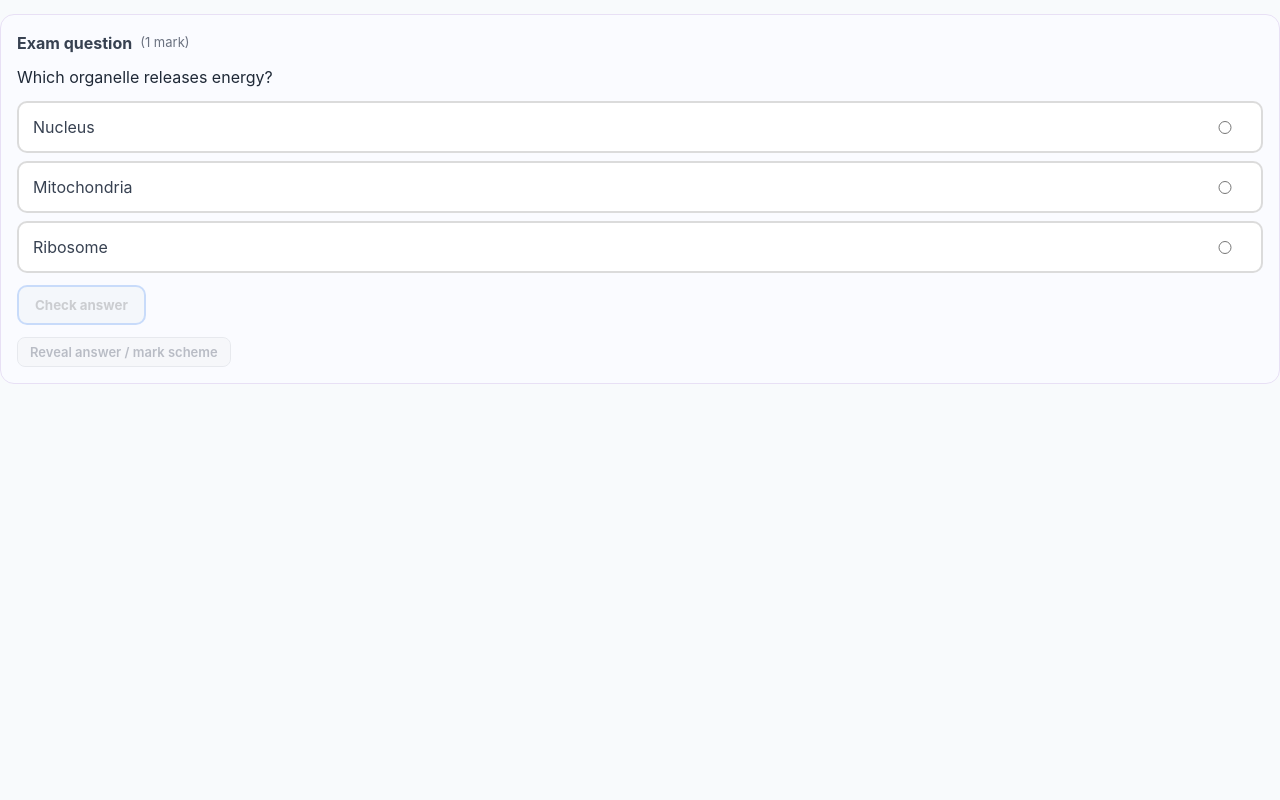
it: ExamQuestionBlock single question marking › student reveal is disabled until single MCQ is checked
Check: the button with test id "exam-question-reveal-btn" is disabled, box [17,337,231,367]
Click the button "Mitochondria".
click(83, 187)  # box [17,161,1263,213]
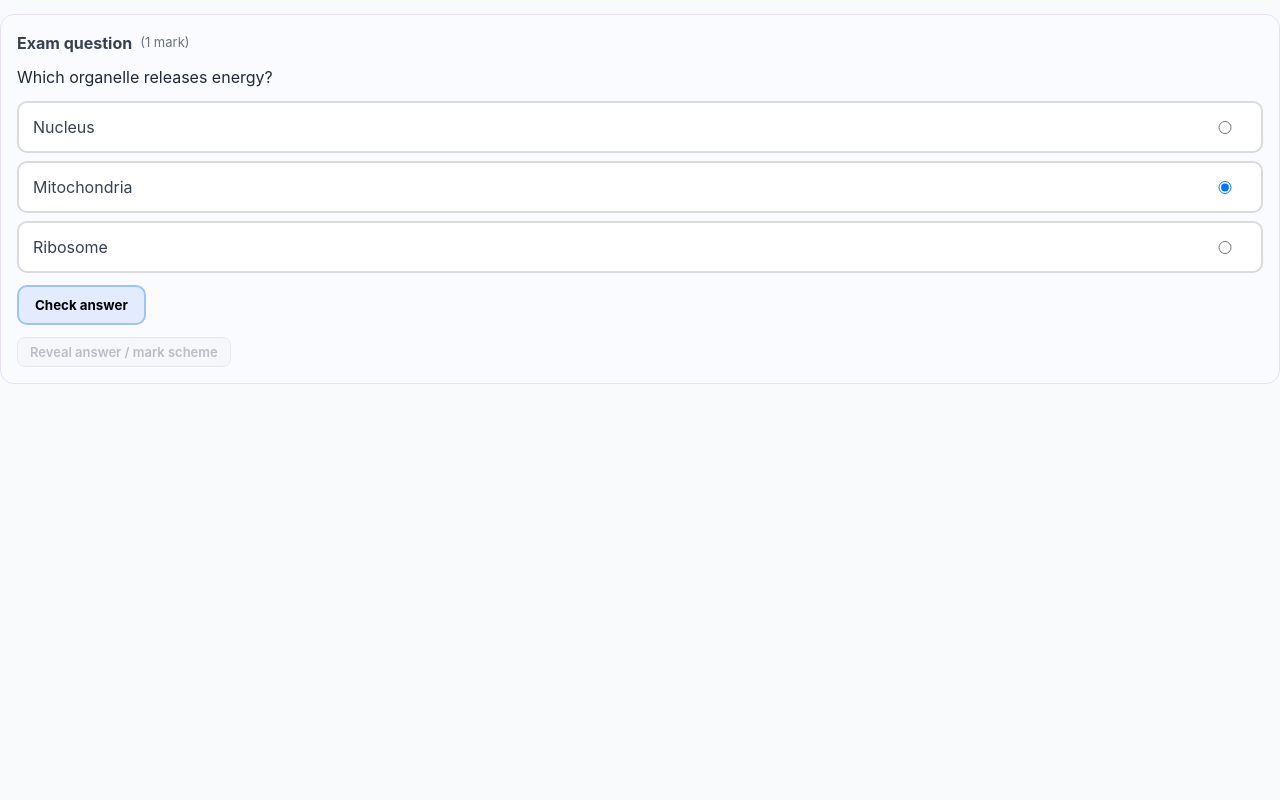
Click the button "Check answer".
click(81, 305)  # box [17,285,146,325]
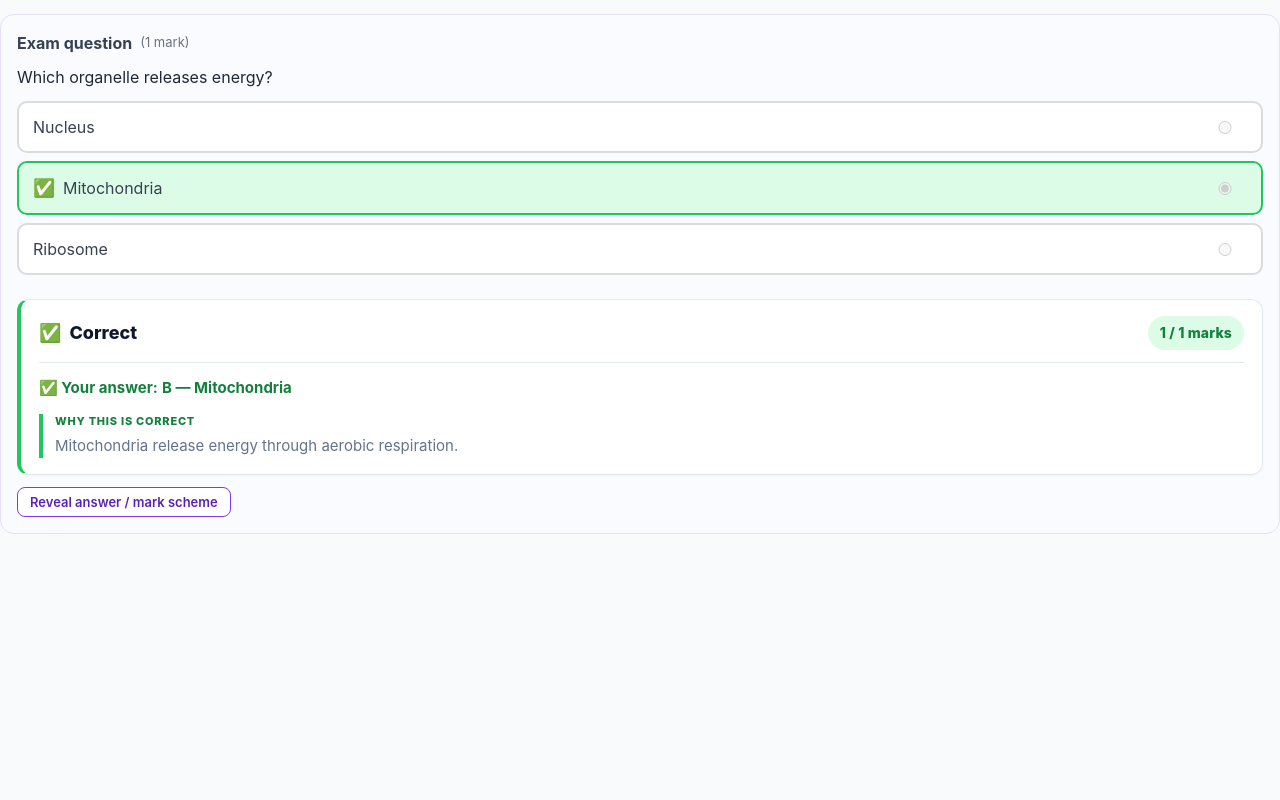
Check: the button with test id "exam-question-reveal-btn" is enabled
Click the button with test id "exam-question-reveal-btn".
click(124, 502)  # box [17,487,231,517]
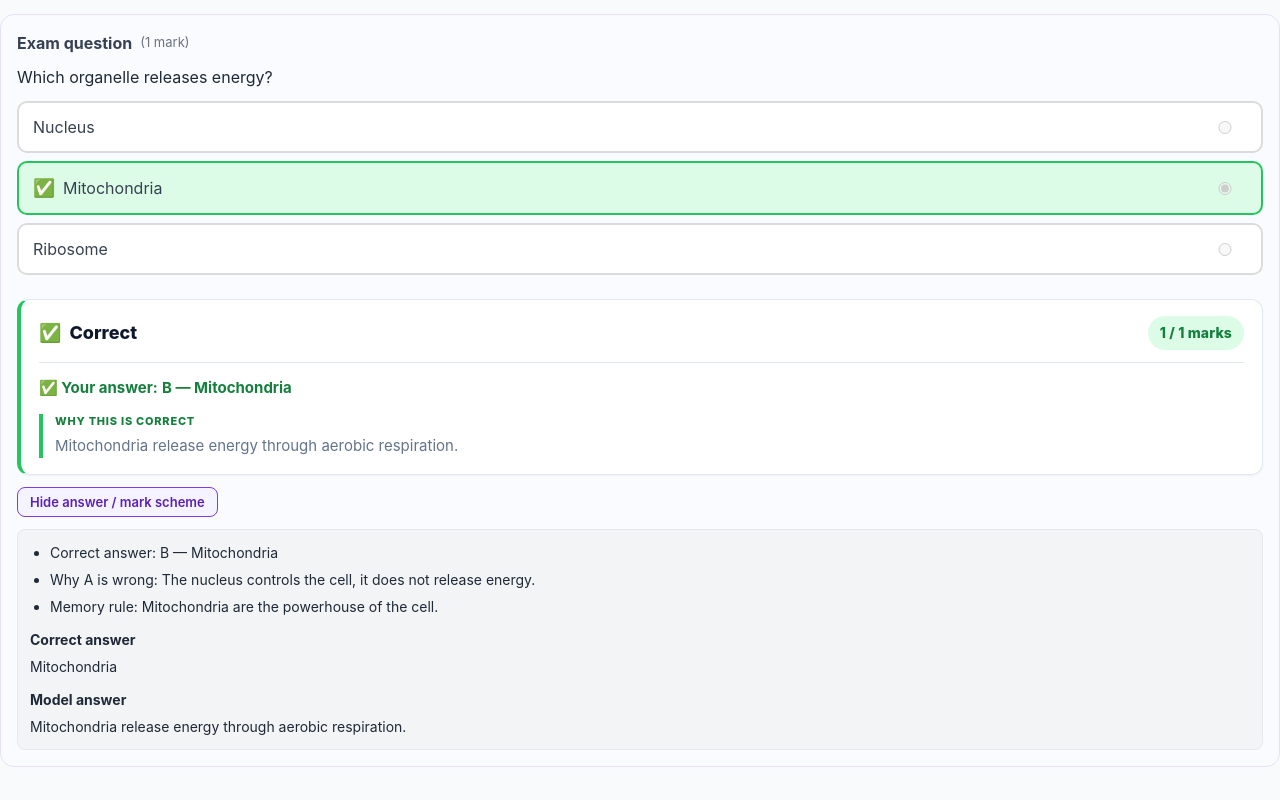
Check: the list item "Correct answer: B — Mitochondria" is shown, box [50,544,278,561]
